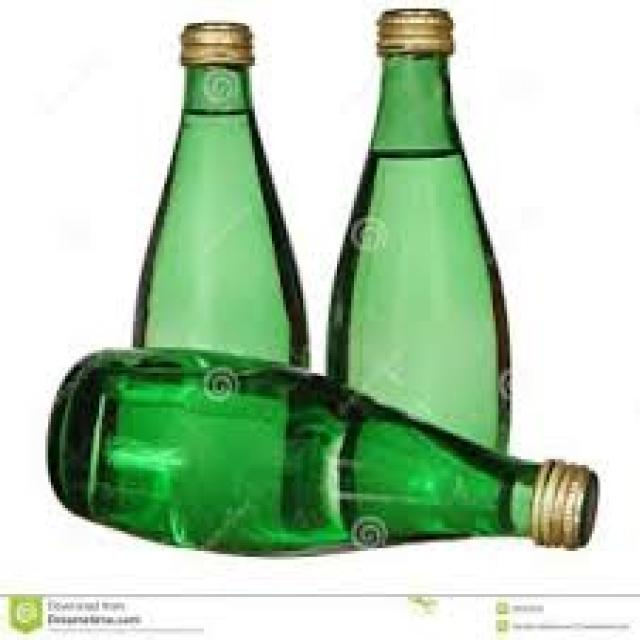glass: (45, 344, 527, 554), (323, 52, 510, 454), (133, 63, 303, 367)
metal: (524, 454, 595, 546), (176, 17, 249, 66), (374, 6, 450, 52)
